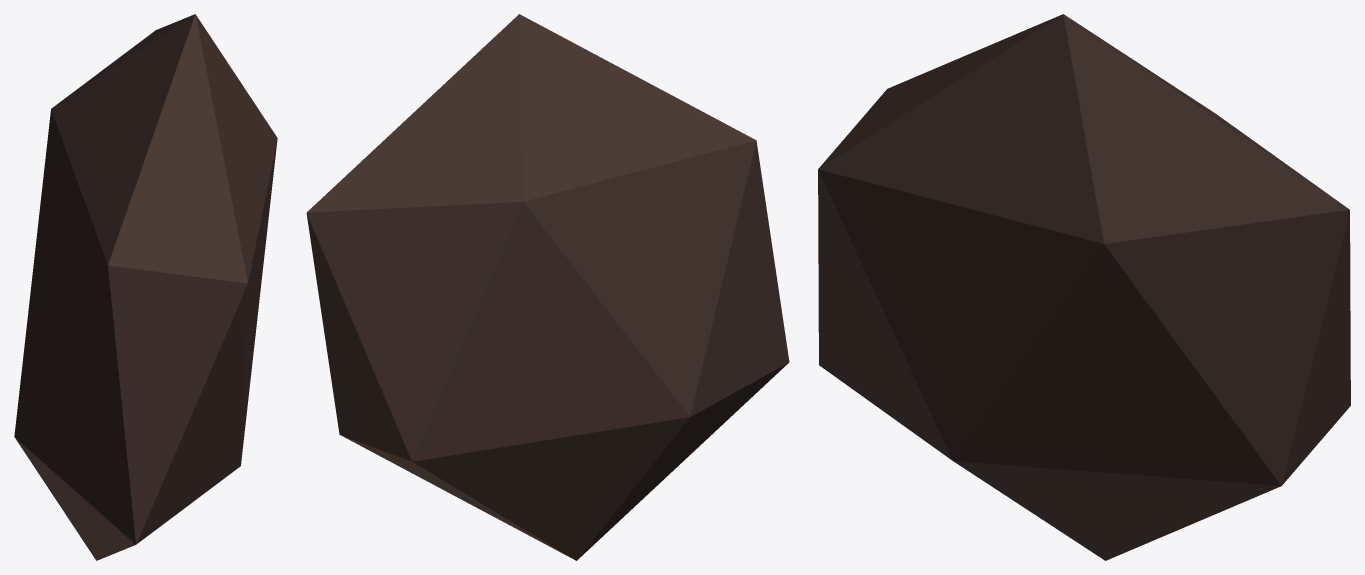
File: gore_14.glb
The picture shows the model from 3 angles, left to right: view 1: azimuth 30°, elevation 25°; view 2: azimuth 150°, elevation 25°; view 3: azimuth 270°, elevation 25°; orthographic projection. The views are drawn at different scales.
Visible parts, largest first — view 1: CHUNK; view 2: CHUNK; view 3: CHUNK.
Part boxes in pixels (<box>): CHUNK: <box>14,14,277,560</box>; CHUNK: <box>306,14,789,560</box>; CHUNK: <box>818,14,1350,560</box>.
Size of the model in its own units: 0.0601 by 0.1105 by 0.0906.
